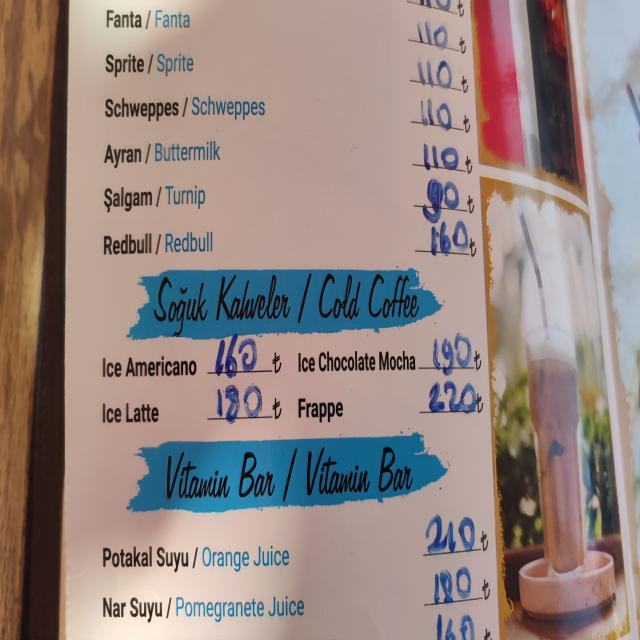math: (421, 506, 476, 554), (428, 379, 482, 420), (426, 218, 470, 264), (428, 329, 475, 369), (420, 176, 462, 220), (427, 566, 473, 606), (214, 336, 259, 376), (414, 97, 456, 131), (415, 56, 456, 88), (421, 142, 461, 174), (414, 18, 453, 50)
text: (150, 274, 418, 328), (101, 589, 307, 625), (100, 542, 294, 575), (162, 448, 278, 502), (303, 444, 413, 499), (103, 92, 270, 128), (99, 346, 198, 386), (105, 136, 222, 168), (102, 228, 215, 261), (294, 347, 418, 376), (103, 182, 208, 215), (102, 3, 194, 33), (105, 50, 195, 78), (100, 393, 162, 430), (294, 391, 346, 423)
